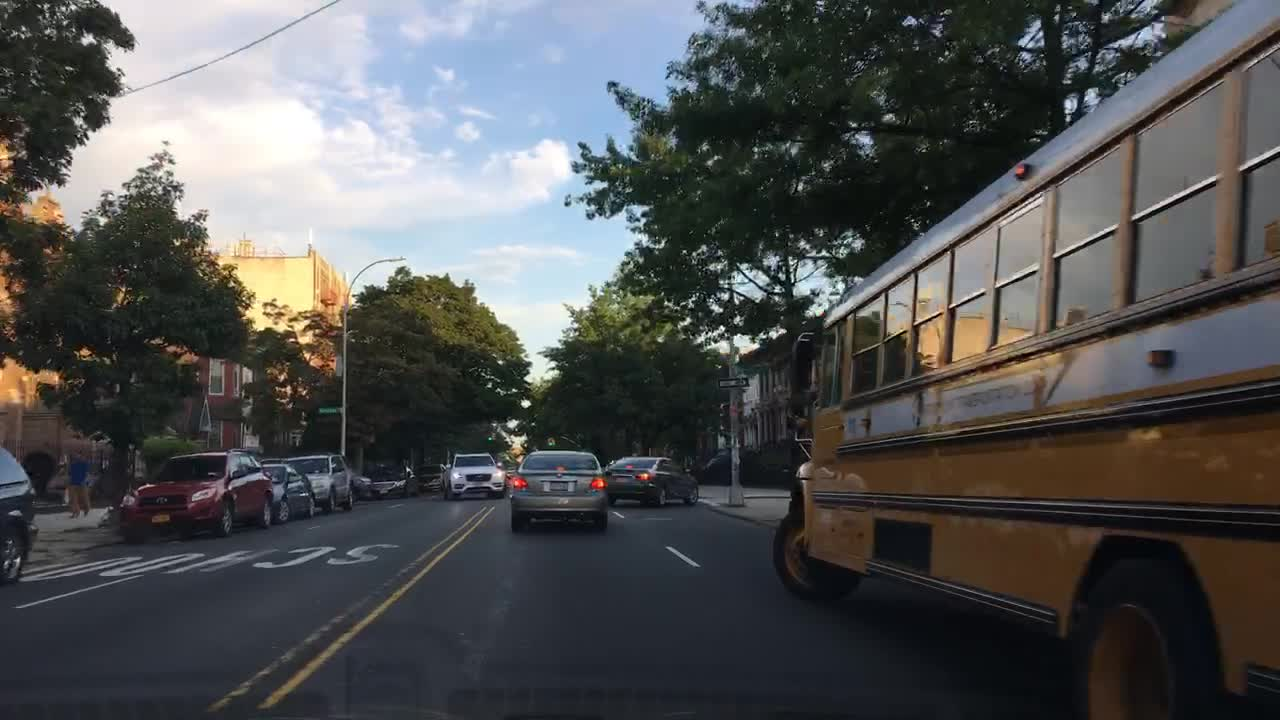bus: (773, 0, 1278, 718)
car: (119, 451, 273, 536), (506, 451, 611, 531), (1, 447, 37, 586), (602, 455, 697, 506), (286, 452, 354, 509), (262, 461, 313, 521), (445, 451, 504, 497), (373, 461, 419, 496), (419, 461, 446, 490), (346, 471, 371, 497)
person: (62, 452, 93, 519)
traffic light: (546, 436, 552, 446), (487, 430, 491, 440)
traffic sign: (719, 378, 748, 388), (318, 406, 339, 414)
